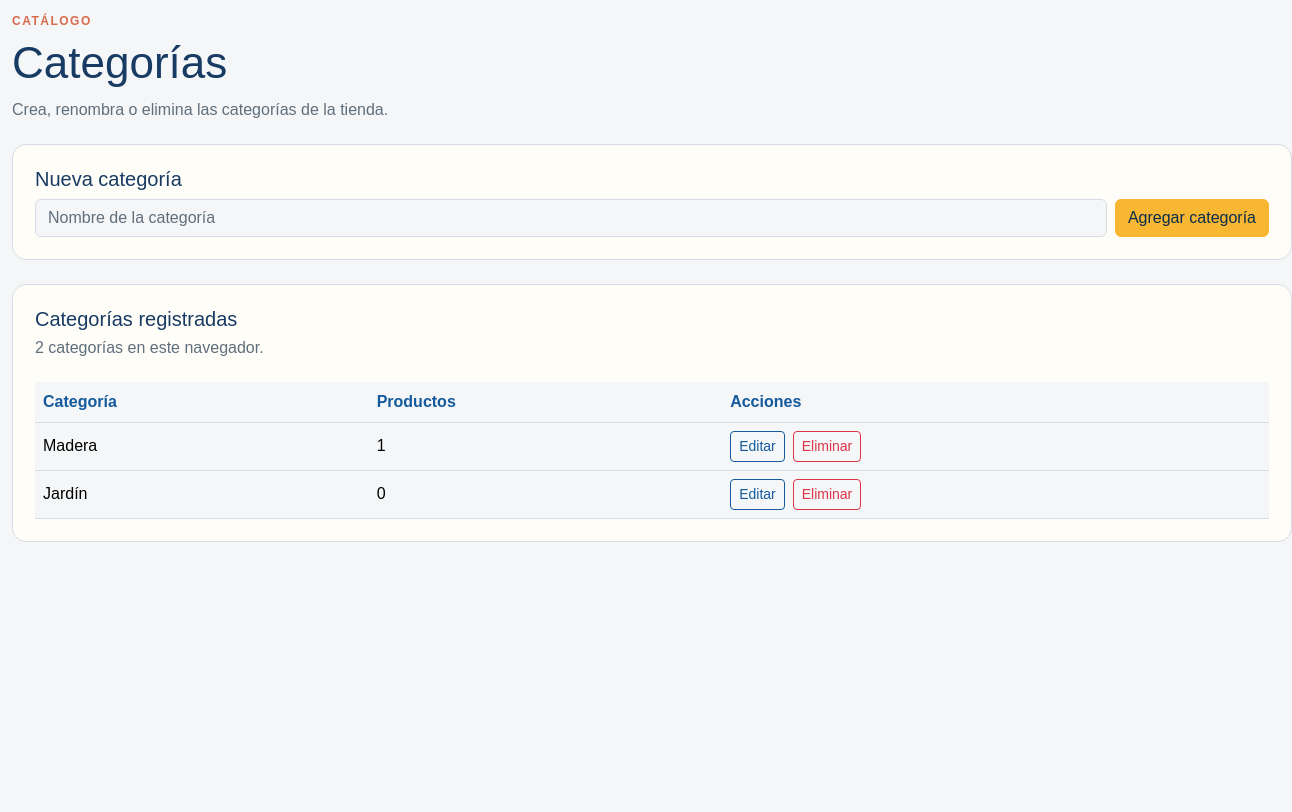
it: AdminCategoriasContainer › agrega una categoría válida y la guarda
In the field named "Nombre de la nueva categoría": (571, 218) [35, 199, 1107, 237], type "Iluminación"
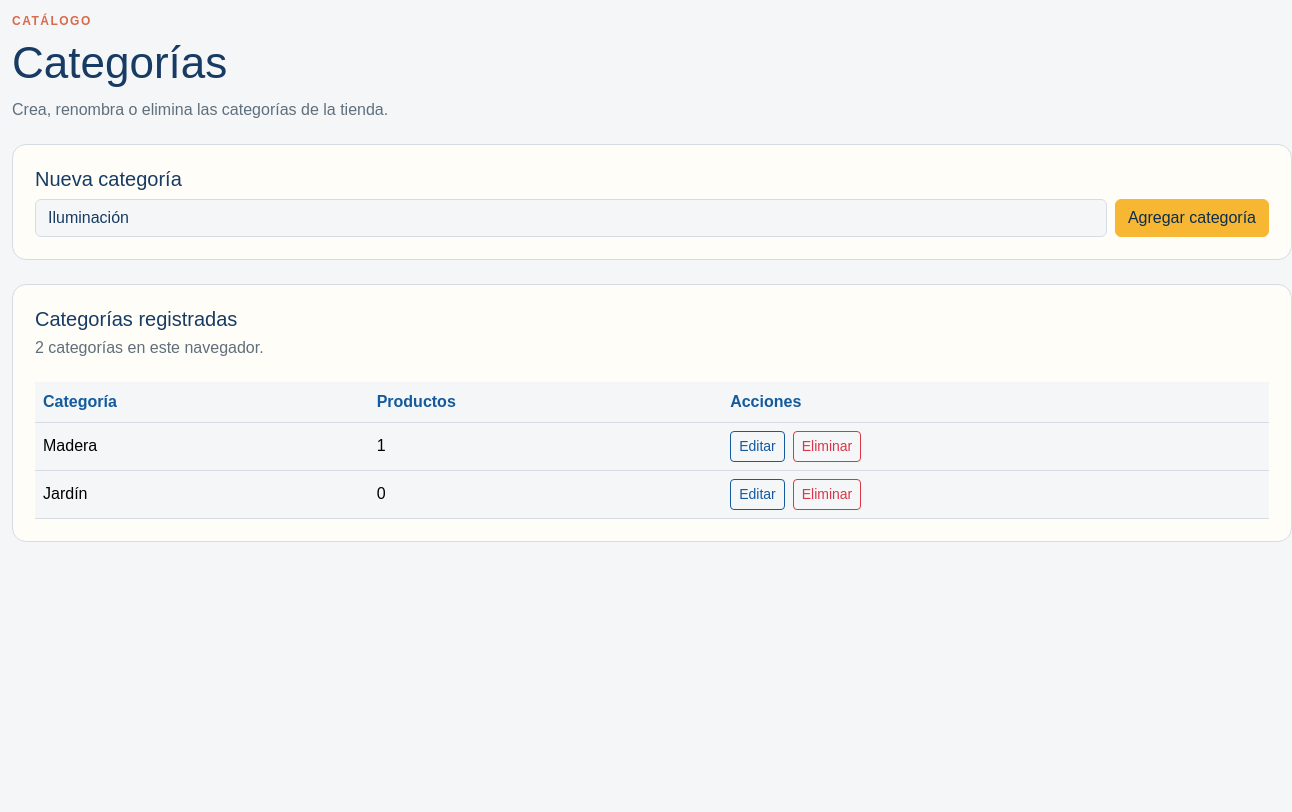
Click the button "Agregar categoría": (1192, 218) [1115, 199, 1269, 237]
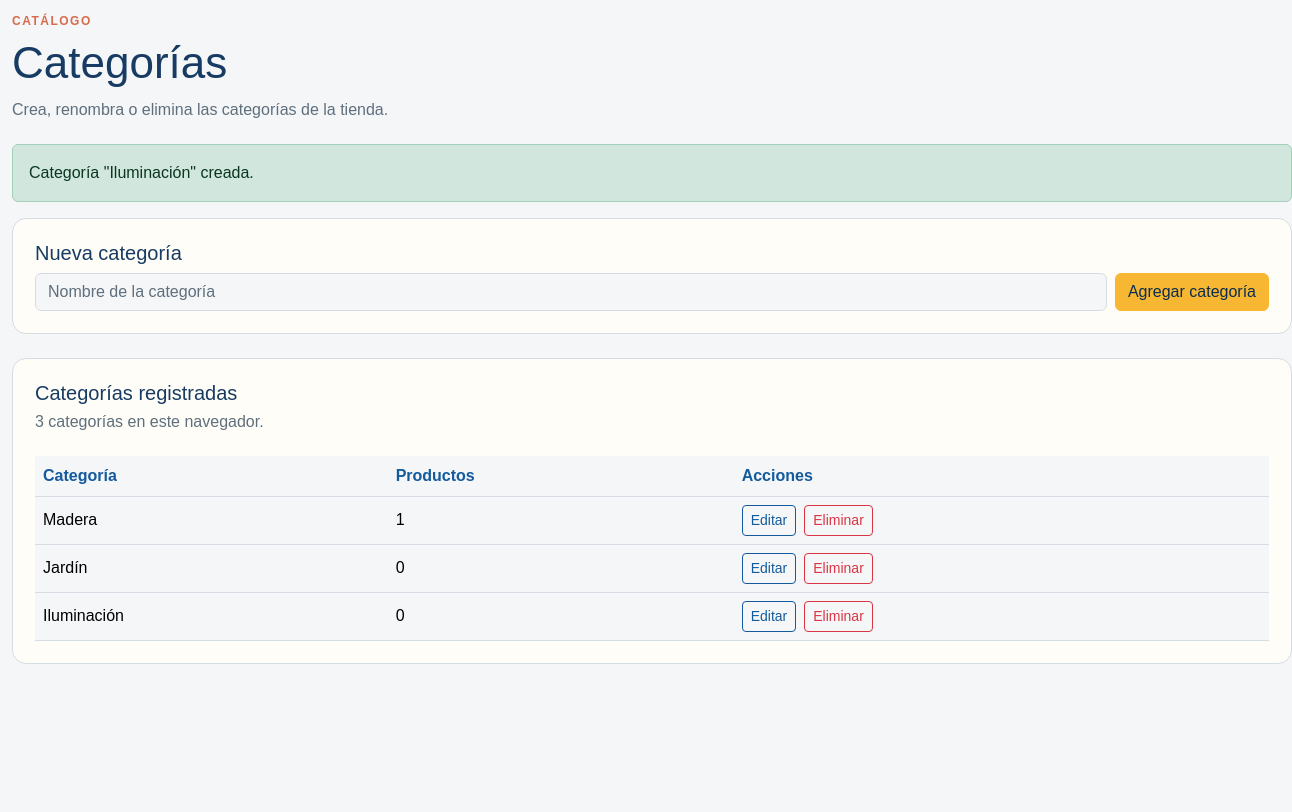
Now the text "Categoría \"Iluminación\" creada." is shown, box [12, 144, 1291, 202]
